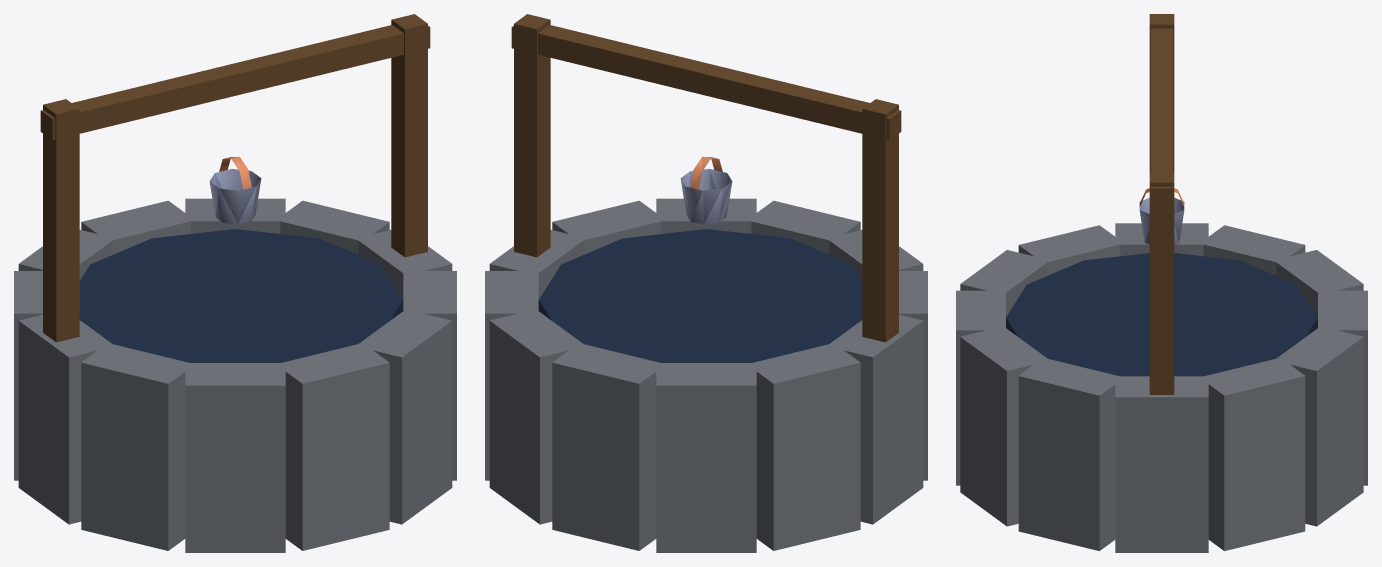
File: well.glb
3 renders of one model, left to right at view 1: azimuth 30°, elevation 25°; view 2: azimuth 150°, elevation 25°; view 3: azimuth 270°, elevation 25°, orthographic. The views are drawn at different scales.
Visible parts, largest first — view 1: well; view 2: well; view 3: well.
Part boxes in pixels (bbox=[...]): well: bbox=[14, 14, 456, 552]; well: bbox=[485, 14, 927, 552]; well: bbox=[956, 14, 1367, 552].
Bounding box in the file's own units: 1.4 × 1.38 × 1.4.
4 materials, 1 textured.
